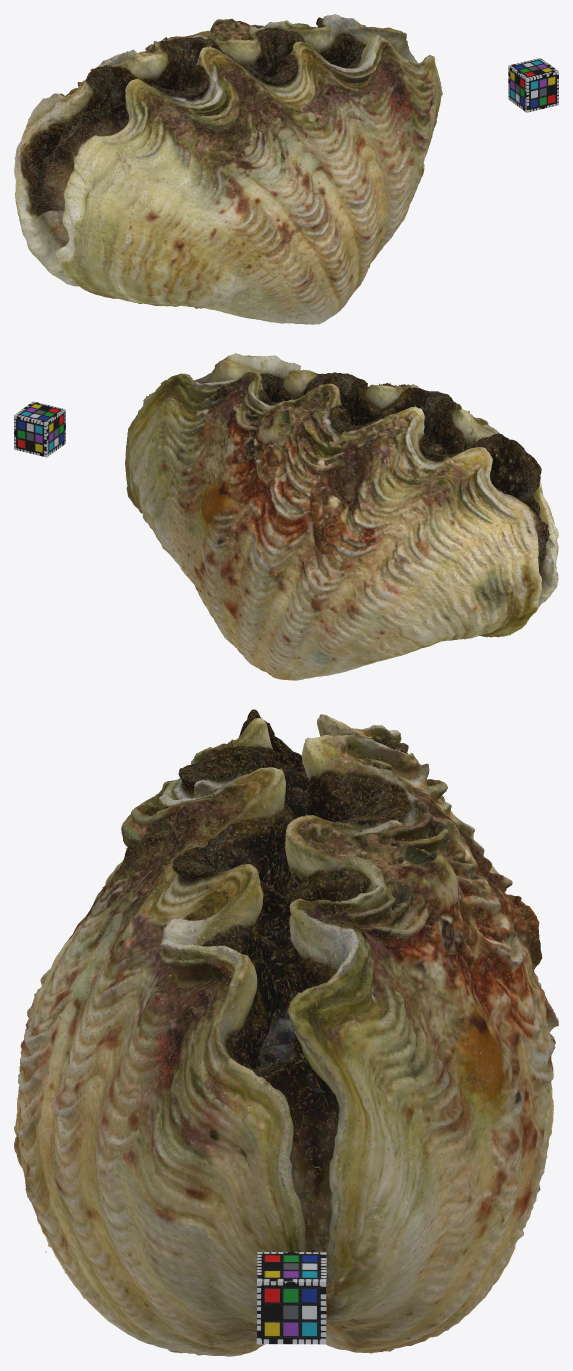
Rendered from tridacna_crocea_ffish.glb.
3 views of the same model, one above another, from view 1: azimuth 30°, elevation 25°; view 2: azimuth 150°, elevation 25°; view 3: azimuth 270°, elevation 25° (orthographic). The views are drawn at different scales.
Parts seen in each view (by area): view 1: Q11830-1all-1_5, Cube_2; view 2: Q11830-1all-1_5, Cube_2; view 3: Q11830-1all-1_5, Cube_2.
Part boxes in pixels (x1=…): Q11830-1all-1_5: x1=14, y1=14, x2=442, y2=324; Cube_2: x1=508, y1=58, x2=558, y2=112; Q11830-1all-1_5: x1=125, y1=353, x2=558, y2=680; Cube_2: x1=14, y1=401, x2=65, y2=457; Q11830-1all-1_5: x1=14, y1=709, x2=558, y2=1356; Cube_2: x1=256, y1=1252, x2=326, y2=1344.
Size of the model in its own units: 7.48 by 3.8 by 3.64.
Materials: 5 (5 with a texture image).
